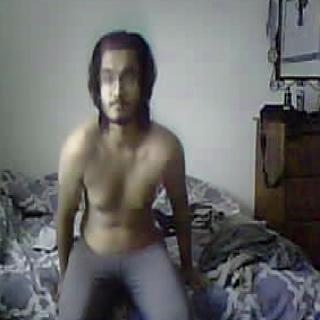Gray Sweatpants: (54, 244, 190, 320)
